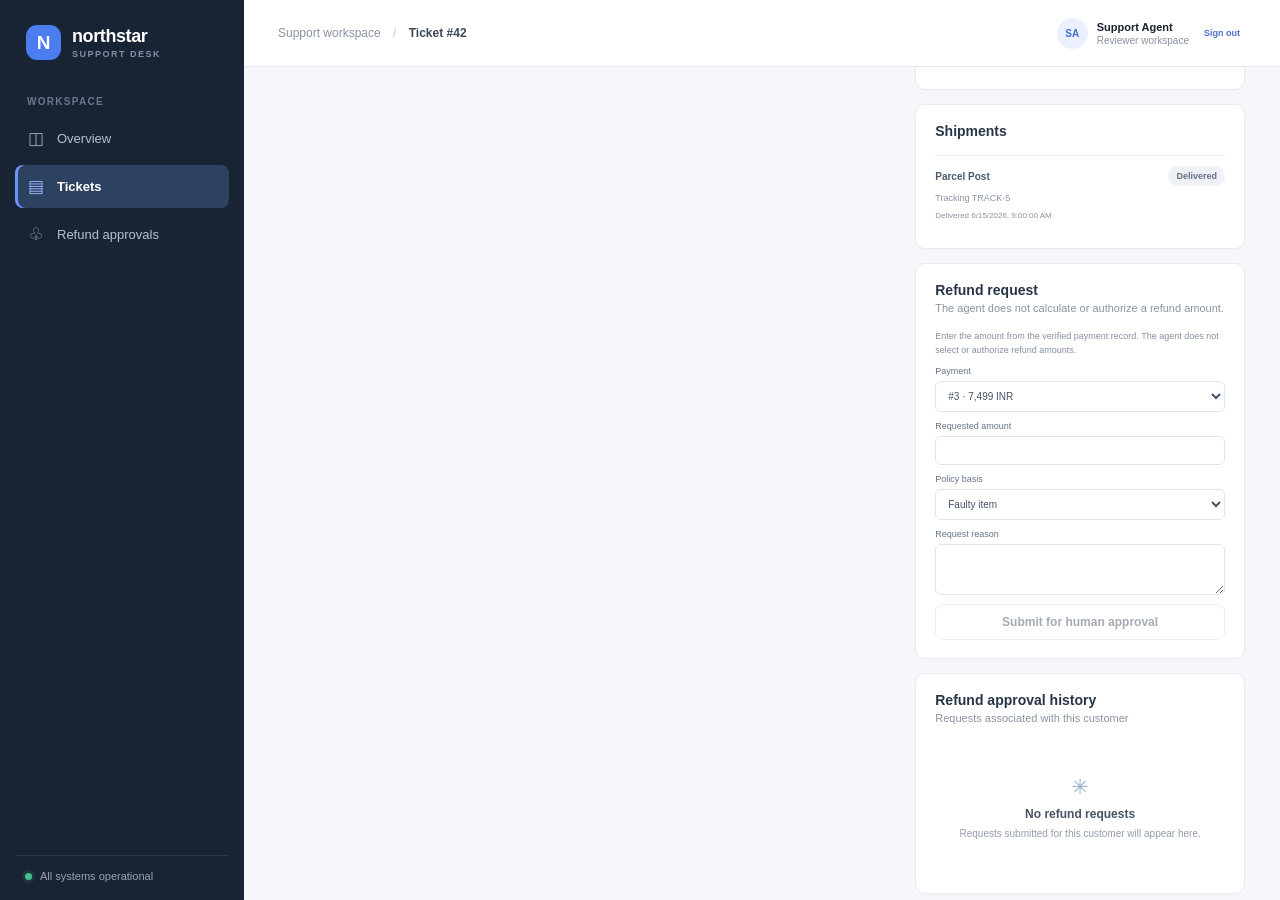
Test: support dashboard › shows scoped payment and shipment context and submits a human refund request
The image size is (1280, 900).
(page scrolled)
Expected: the text "Tracking TRACK-5" is shown, left=935, top=193, right=1010, bottom=203
In the number field labelled "Requested amount": point(1080, 451) left=935, top=436, right=1225, bottom=466, type "25.00"
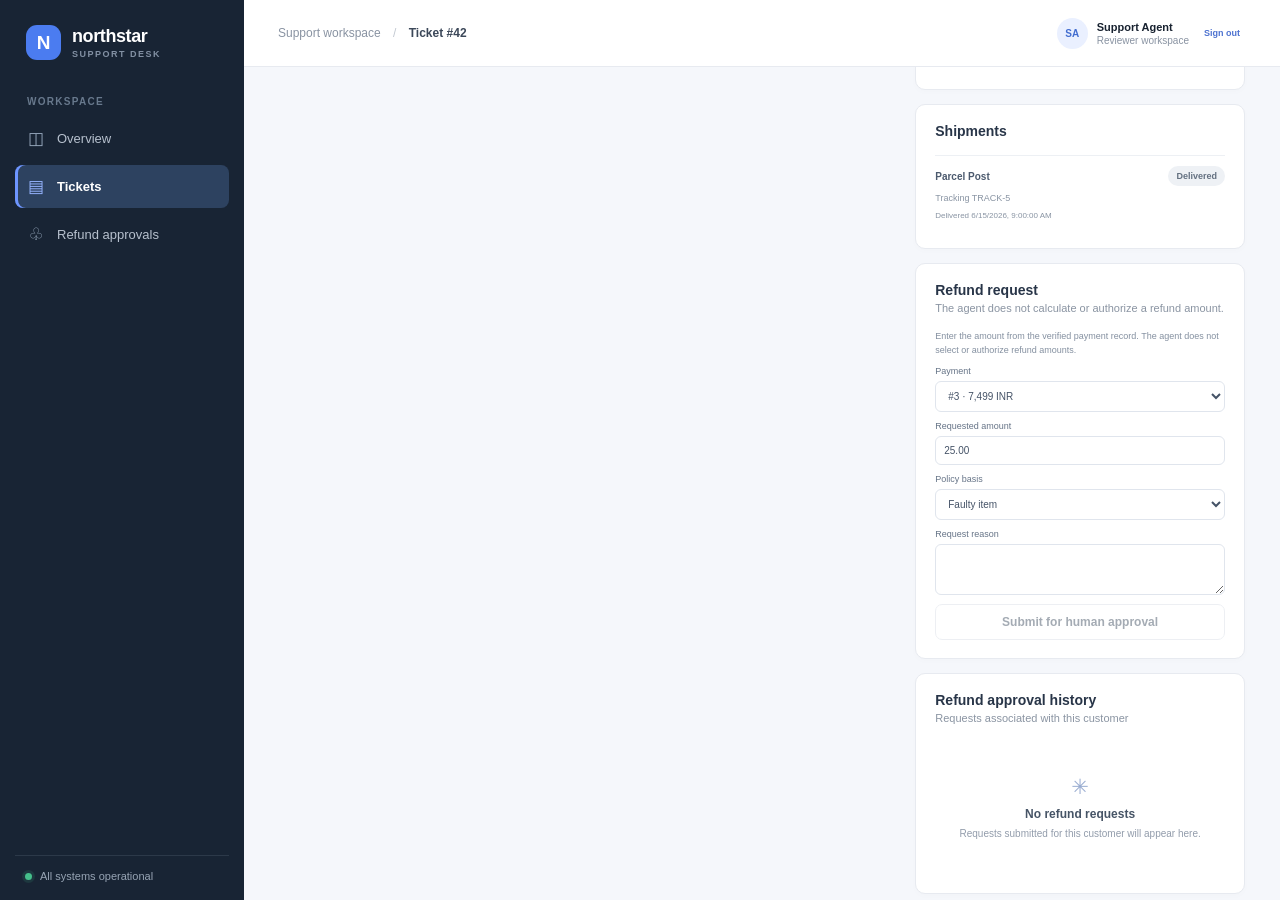
In the text box labelled "Request reason": point(1080, 570) left=935, top=544, right=1225, bottom=596, type "Customer reports damage."
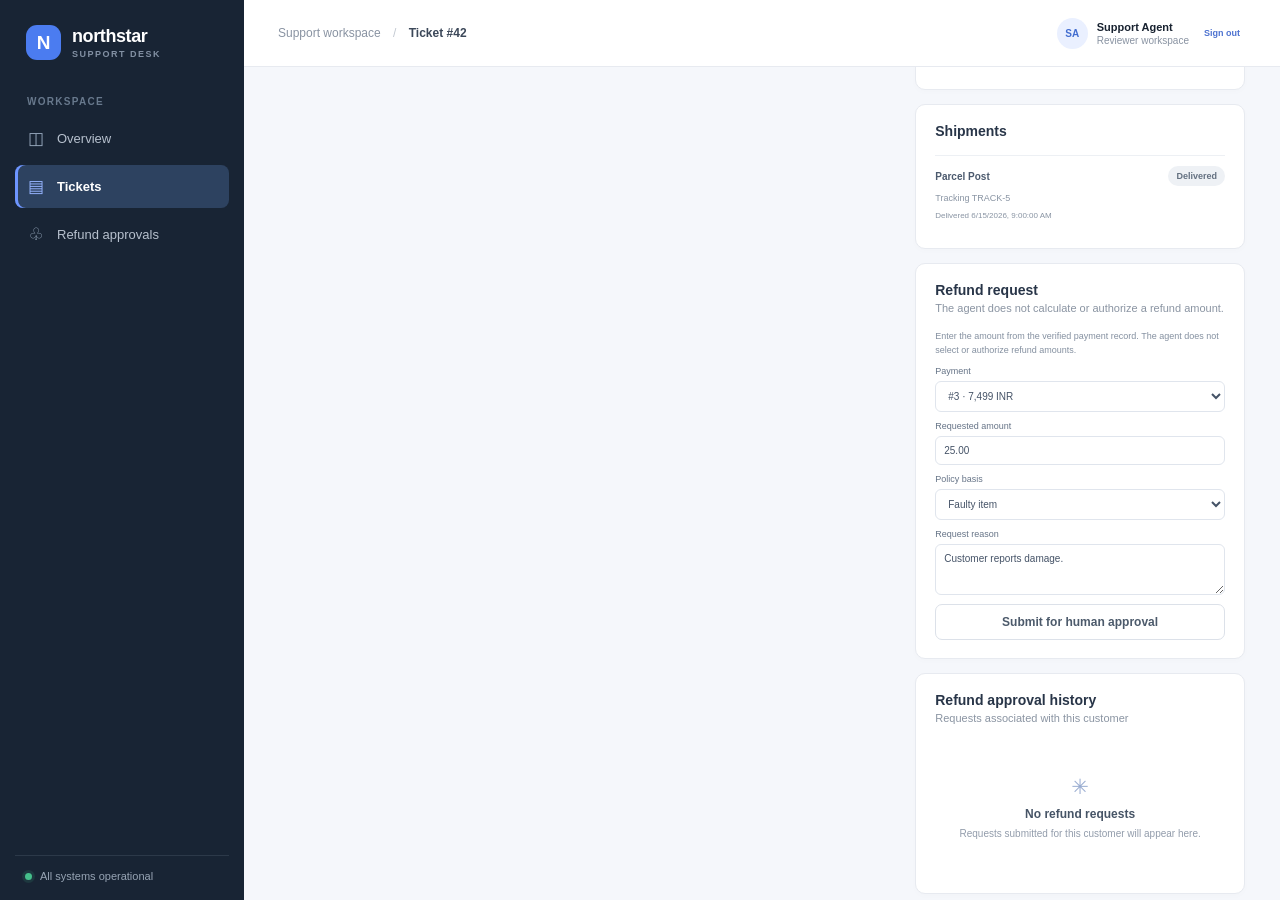
Click the button "Submit for human approval": point(1080, 622) left=935, top=604, right=1225, bottom=640
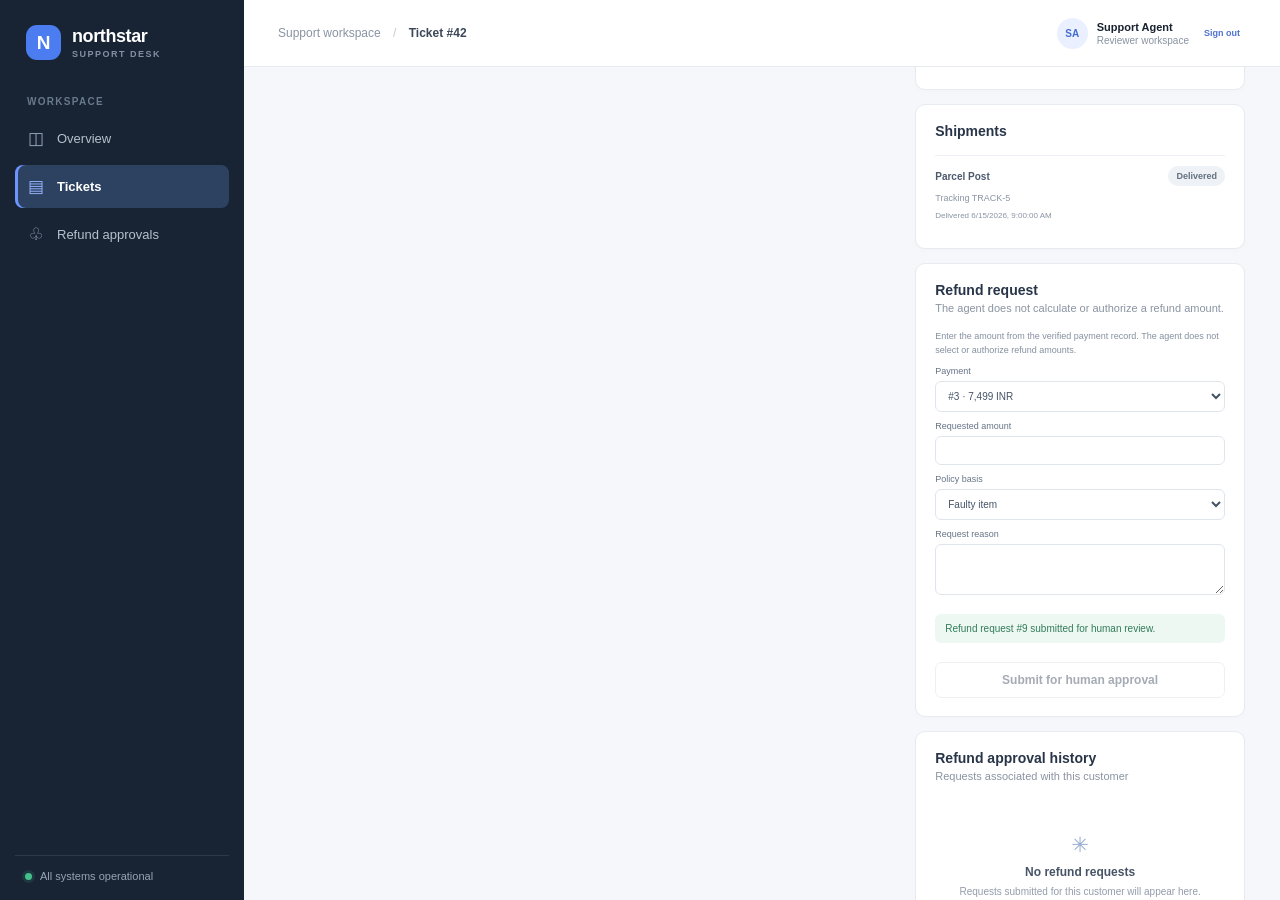
Now the text "Refund request #9 submitted for human review." is shown, box left=935, top=614, right=1225, bottom=644
